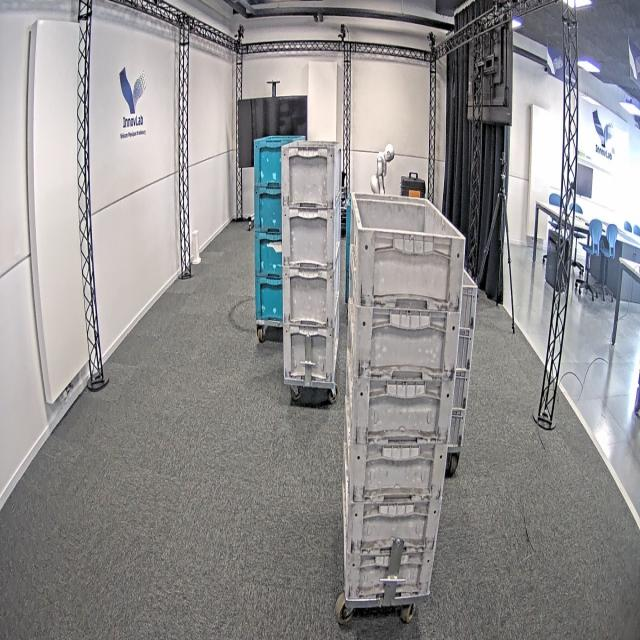Box3G: (348, 190, 465, 313), (352, 307, 462, 378), (356, 376, 454, 442), (347, 436, 447, 499), (344, 536, 436, 600), (348, 496, 442, 556)
Box4G: (281, 140, 342, 212), (282, 202, 340, 273), (283, 317, 340, 382), (283, 263, 338, 330)
BoxB4: (254, 132, 308, 190), (254, 233, 285, 281), (253, 278, 284, 323), (255, 188, 284, 234)
